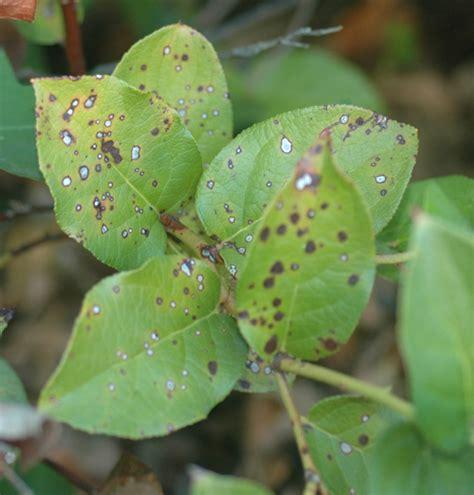black-spot: (258, 214, 332, 298)
